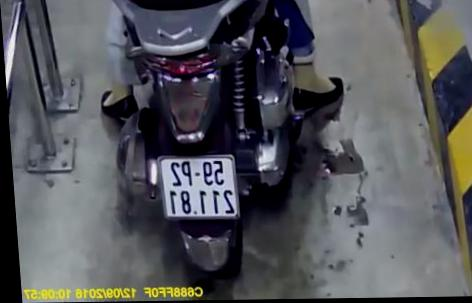License_Plate: (149, 148, 252, 226)
